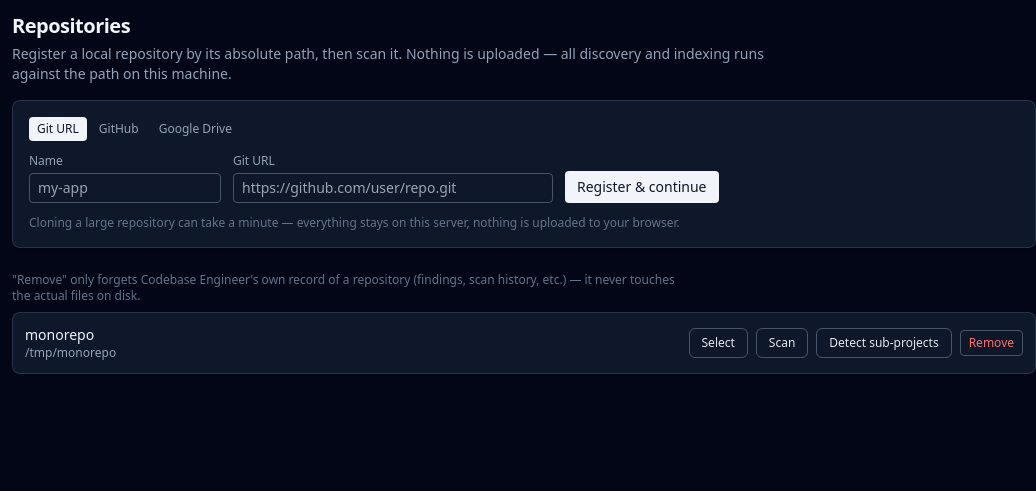
Test: RepositoriesPage › detects and registers a nested sub-project (Task #87)
Expected: the text "monorepo" is shown, x1=25 y1=325 x2=94 y2=344
Click the button "Detect sub-projects".
click(884, 343)  # box x1=816 y1=328 x2=952 y2=358
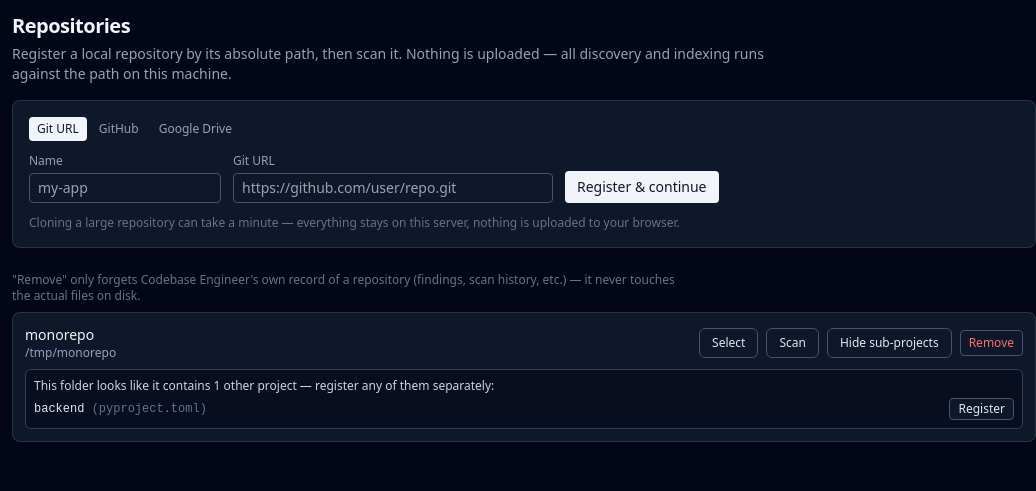
Expected: the text "looks like it contains 1 other project" is shown, x1=34 y1=377 x2=494 y2=394
Expected: the text "backend" is shown, x1=34 y1=402 x2=84 y2=416
Click the button "Register".
click(982, 409)  # box x1=950 y1=398 x2=1014 y2=420
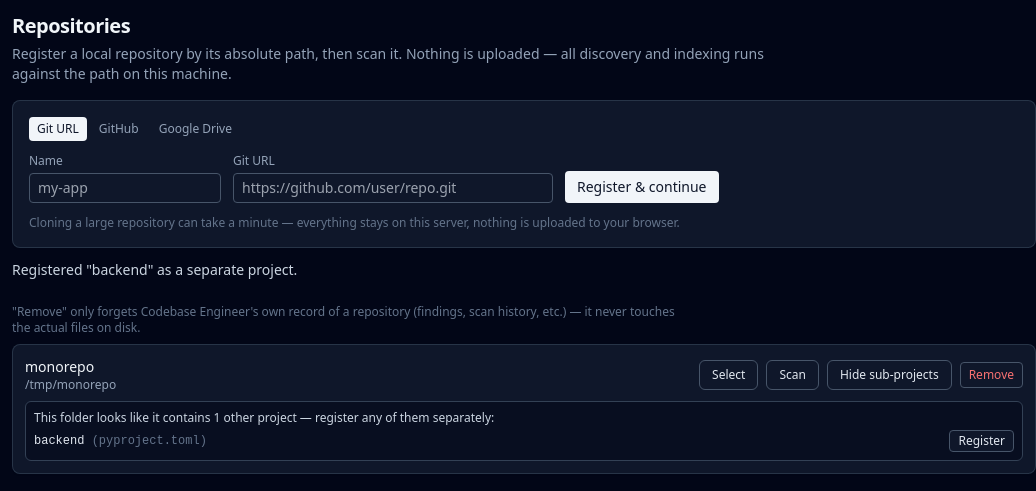
Expected: the text "Registered \"backend\" as a separate project." is shown, x1=12 y1=260 x2=297 y2=279
